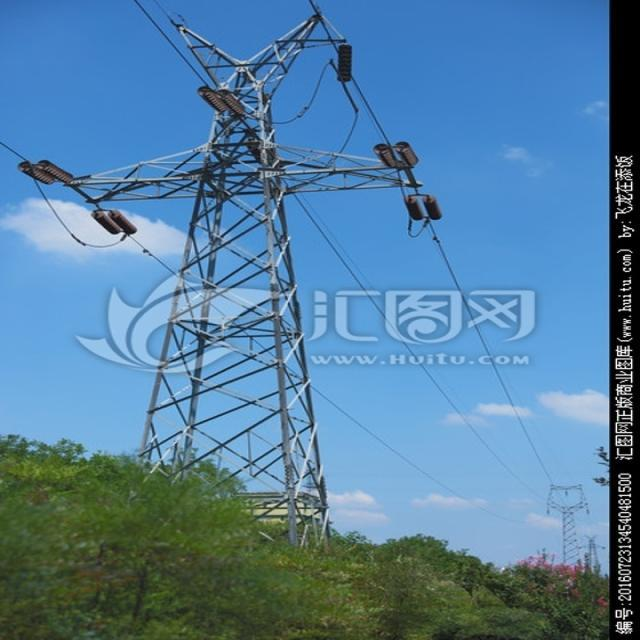non-critical vegetation: (80, 26, 409, 536), (540, 480, 592, 562)
